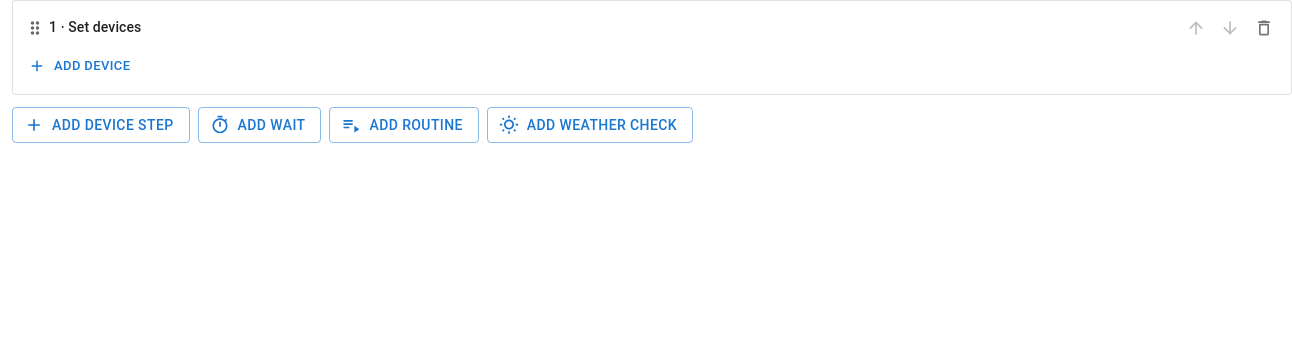
Test: StepList › adds an Only continue if step, starting at temperature above 25
Step 1. Click the button "Add weather check" → point(590, 125), box 487,107 -> 693,143
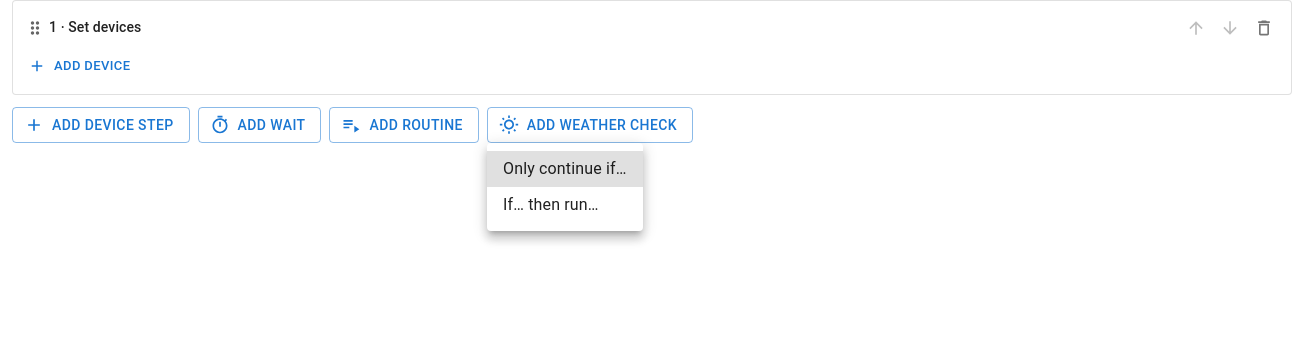
Now the menu item "If… then run…" is shown, box 503,195 -> 599,214
Step 2. Click the menu item "Only continue if…" → point(565, 169), box 487,151 -> 643,187
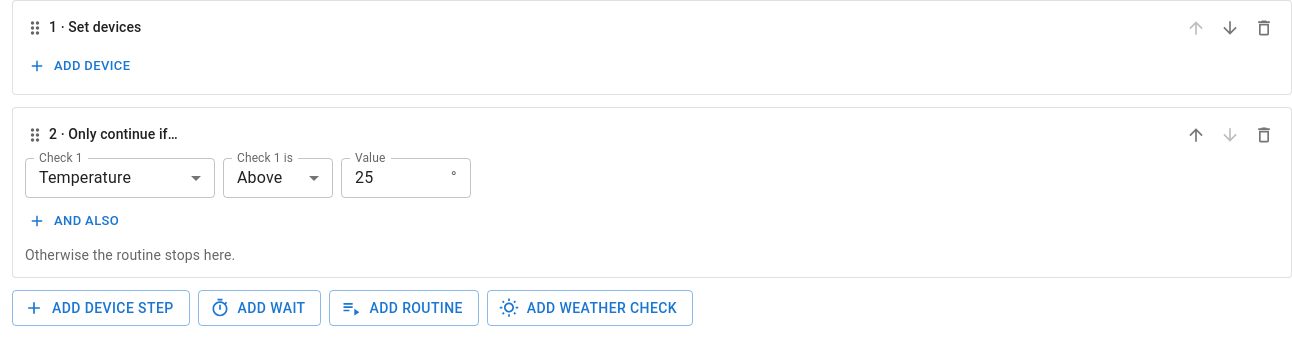
Now the element named "Step 2: Only continue if…" is shown, box 12,107 -> 1291,278
